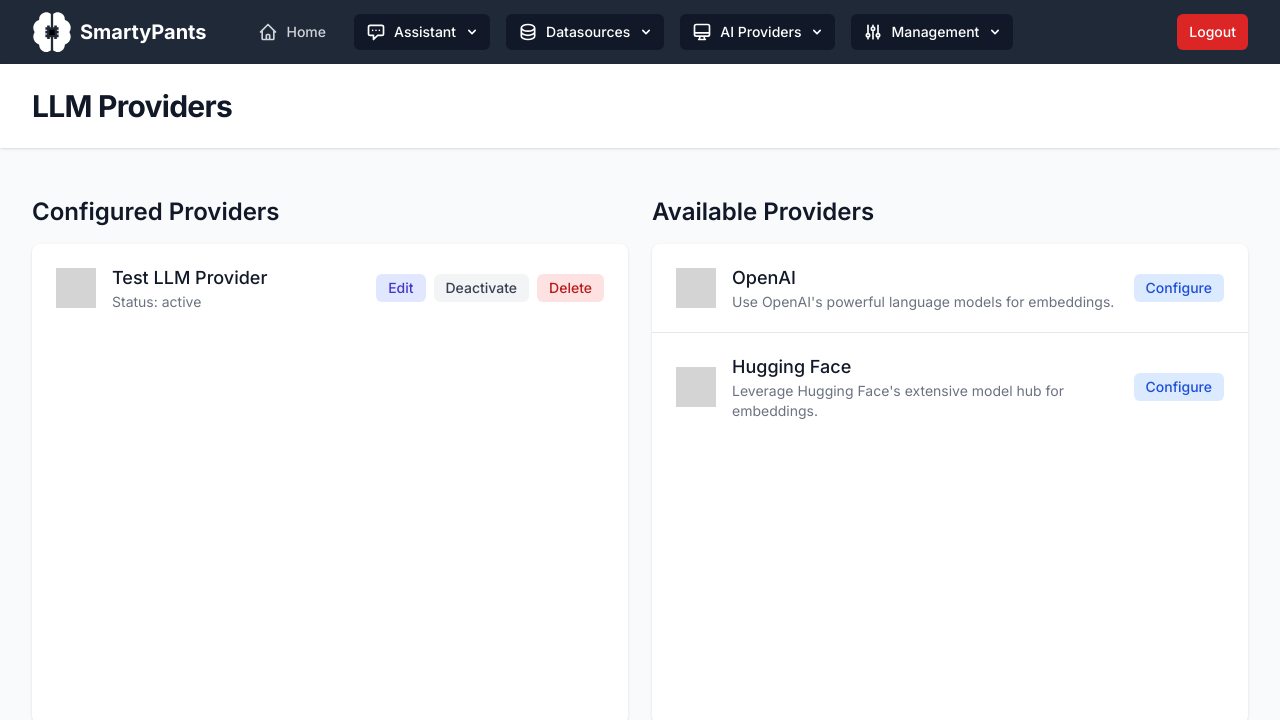
Scenario: LLMProvidersPage › handles delete provider
expect the heading "Test LLM Provider" is shown: met, box x1=112 y1=264 x2=267 y2=292
Click the button "Delete": [571, 288] box x1=537 y1=274 x2=604 y2=302
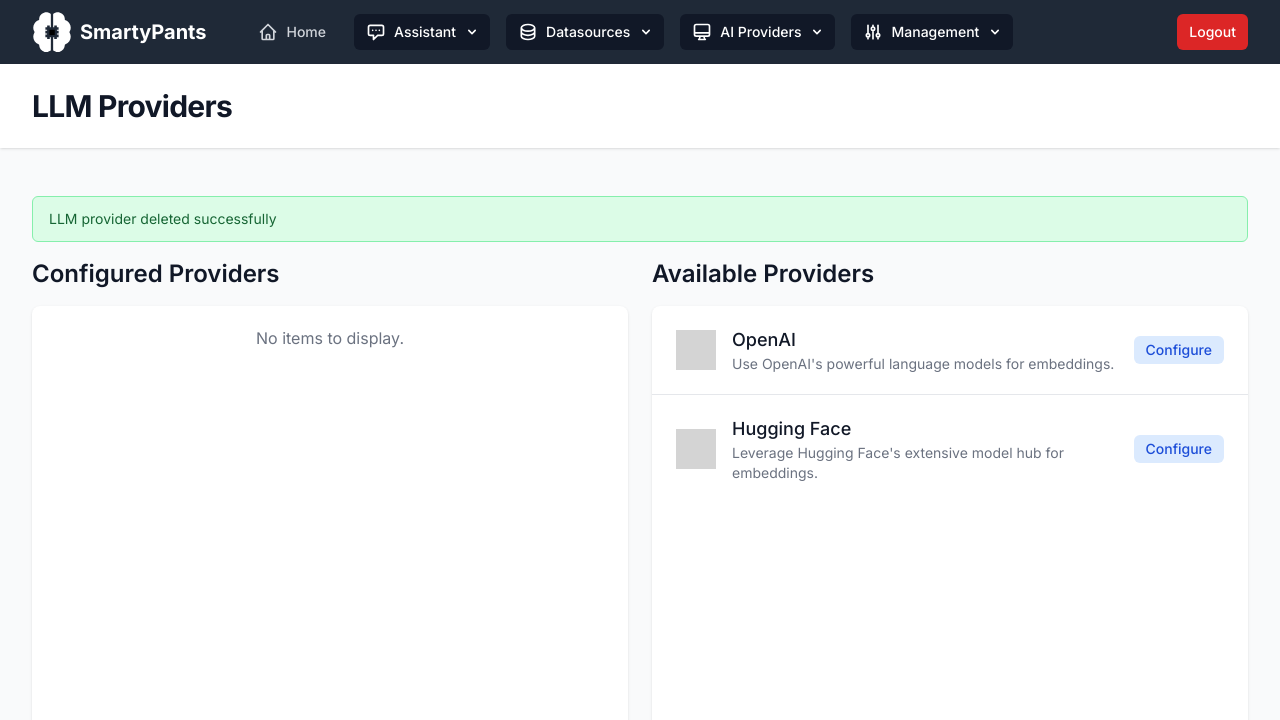
expect the text "LLM provider deleted successfully" is shown: met, box x1=49 y1=210 x2=276 y2=227
